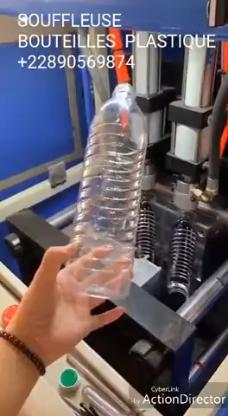Plastic Bottle: (61, 84, 147, 300)
